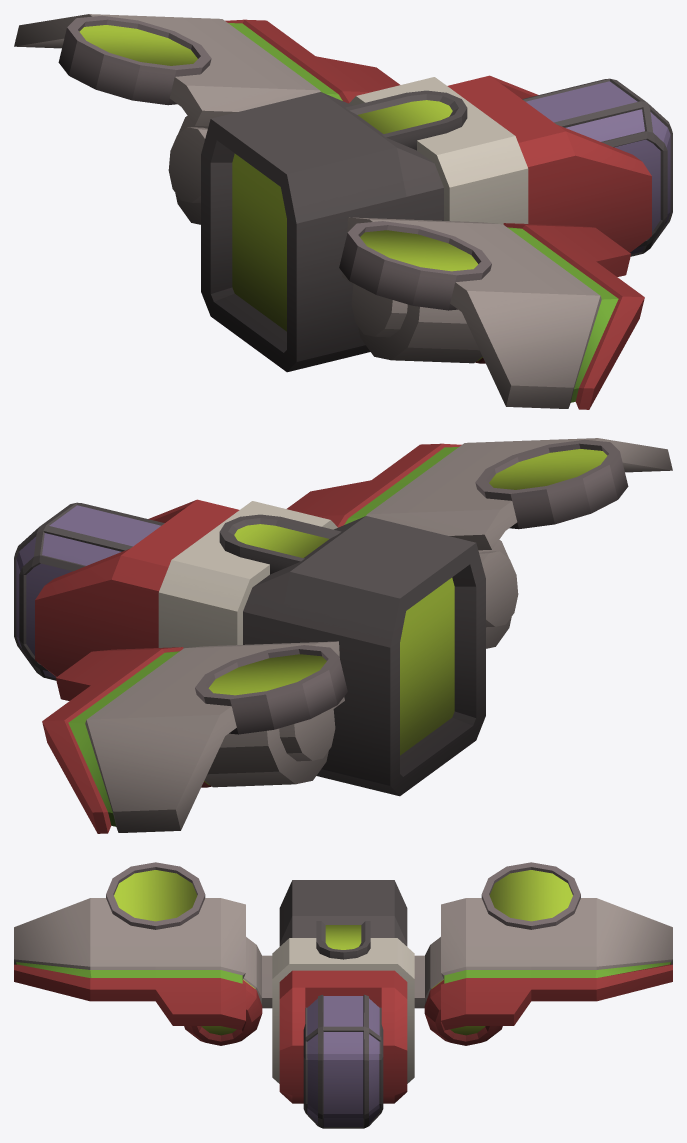
File: Hauler1.fbx
3 views of the same model, one above another, from view 1: azimuth 30°, elevation 25°; view 2: azimuth 150°, elevation 25°; view 3: azimuth 270°, elevation 25° (orthographic). The views are drawn at different scales.
Visible parts, largest first — view 1: Hauler1; view 2: Hauler1; view 3: Hauler1.
Part boxes in pixels (x1,y1,x2,y2): Hauler1: [14, 14, 672, 409]; Hauler1: [14, 438, 672, 833]; Hauler1: [14, 862, 672, 1128].
Size of the model in its own units: 401 by 187 by 763.
1 material, 1 textured.
